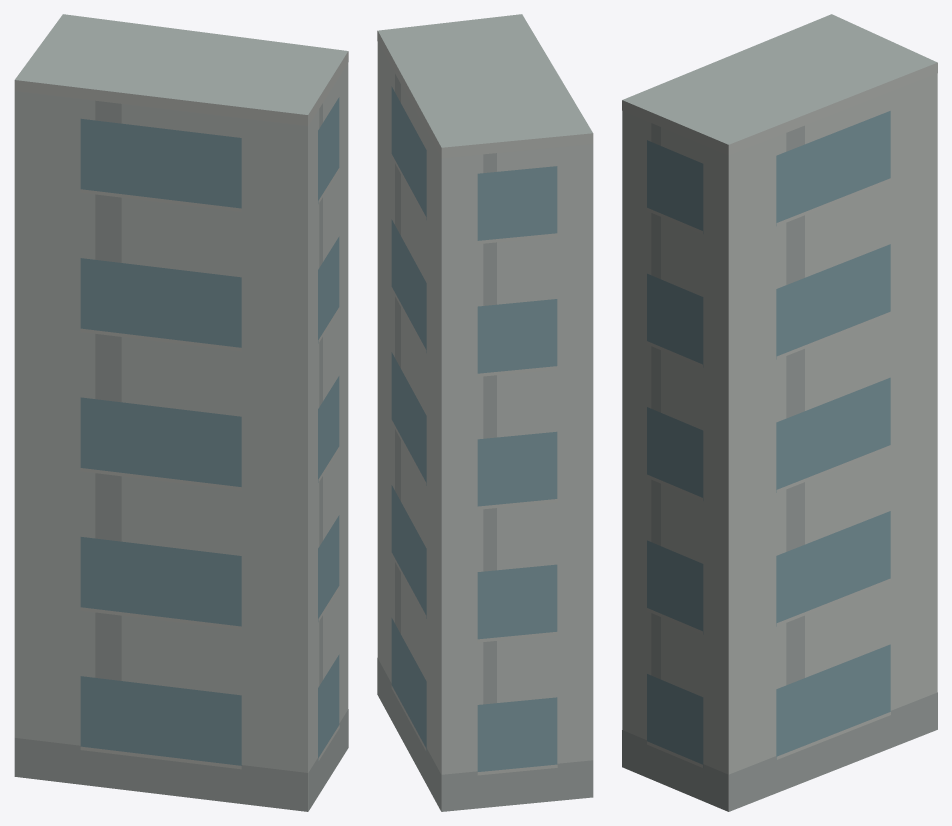
The model's file is survey-upis-32783487.glb.
3 renders of one model, left to right at view 1: azimuth 30°, elevation 25°; view 2: azimuth 150°, elevation 25°; view 3: azimuth 270°, elevation 25°, orthographic. The views are drawn at different scales.
Parts seen in each view (by area): view 1: survey-upis-32783487.tmp; view 2: survey-upis-32783487.tmp; view 3: survey-upis-32783487.tmp.
Boxes of the visible parts, bbox=[...] form: survey-upis-32783487.tmp: bbox=[14, 14, 348, 811]; survey-upis-32783487.tmp: bbox=[377, 14, 593, 811]; survey-upis-32783487.tmp: bbox=[622, 14, 937, 811].
Size of the model in its own units: 6.42 by 15.25 by 6.55.
